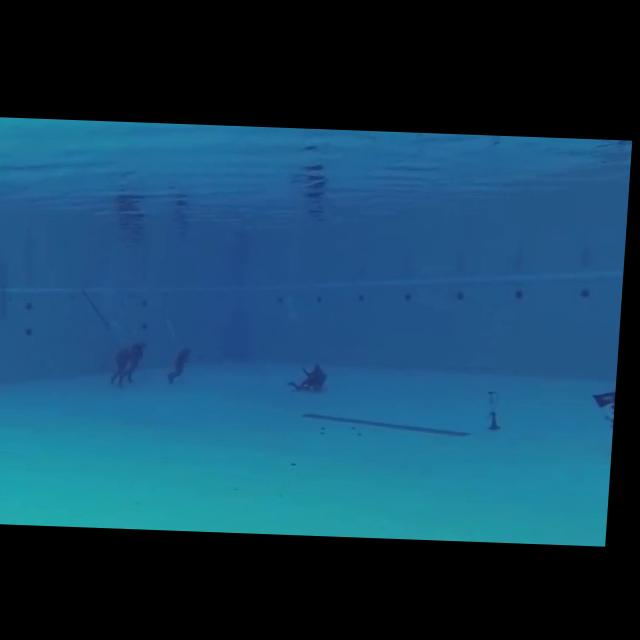human: (287, 353, 337, 396), (592, 383, 621, 446), (169, 339, 201, 387), (128, 332, 153, 384), (112, 340, 137, 391)
